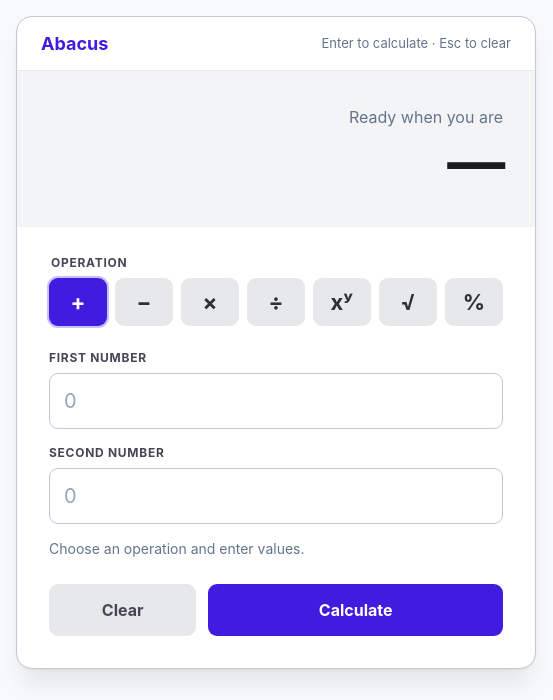
Test: Calculator › uses manifest-provided percentage suffix and range validation
Expected: the button named "Addition" is shown, left=49, top=278, right=107, bottom=326
Click the button named "Percentage" at point(474, 302), box left=445, top=278, right=503, bottom=326
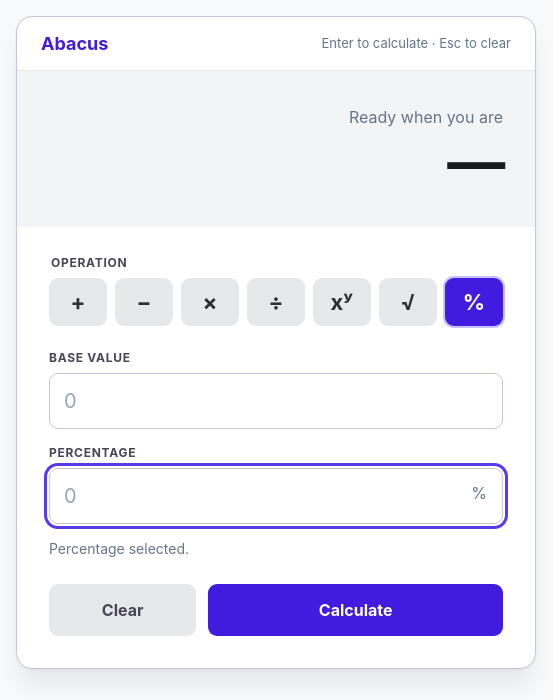
Expected: the element showing "%" is shown, left=49, top=468, right=503, bottom=524
Type "200" into the field labelled "Base value" at point(276, 400), box left=49, top=372, right=503, bottom=428
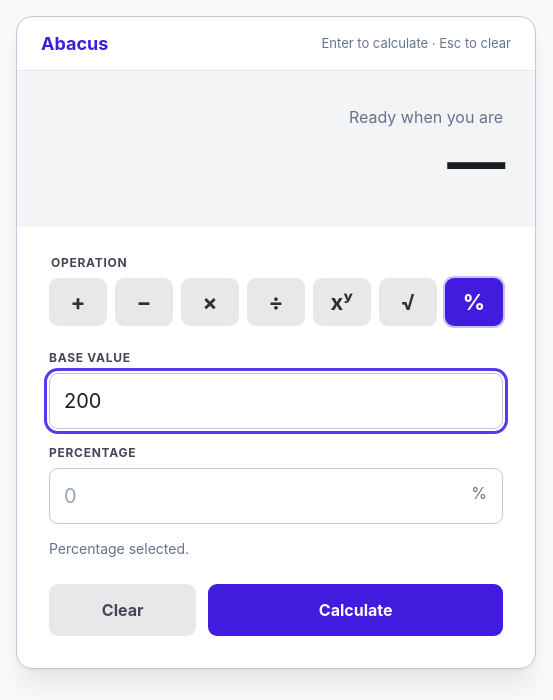
Type "101" into the field labelled "Percentage" at point(276, 496), box left=49, top=468, right=503, bottom=524
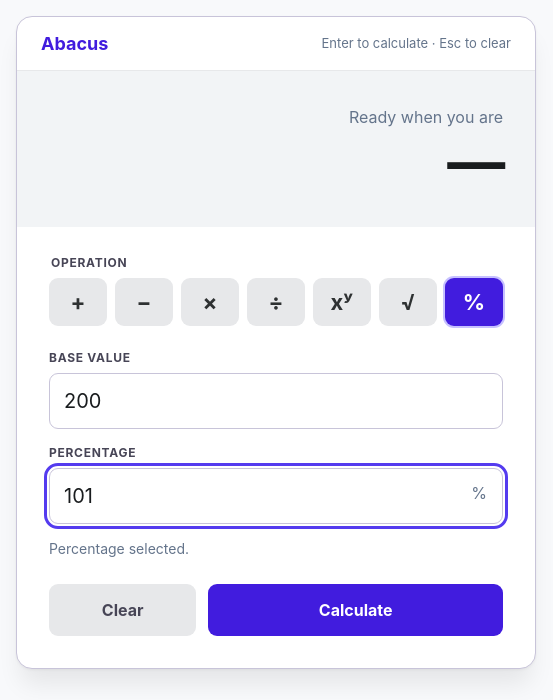
Click the button "Calculate" at point(356, 610), box left=208, top=584, right=503, bottom=636
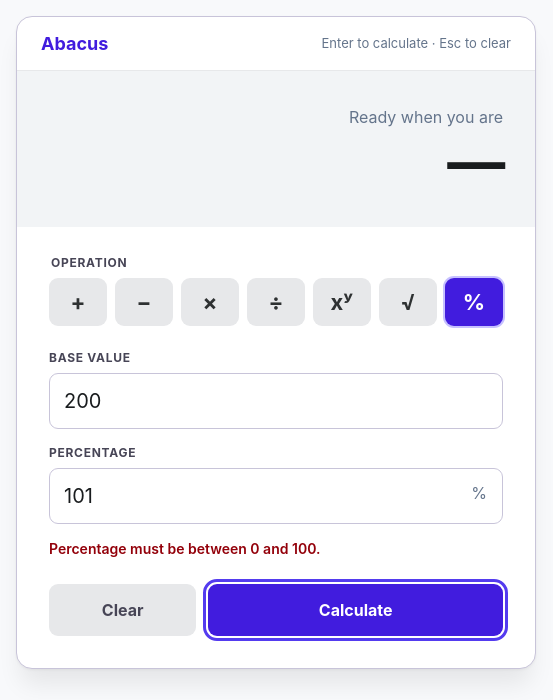
Expected: the message reads "Percentage must be between 0 and 100.", left=49, top=540, right=320, bottom=556
